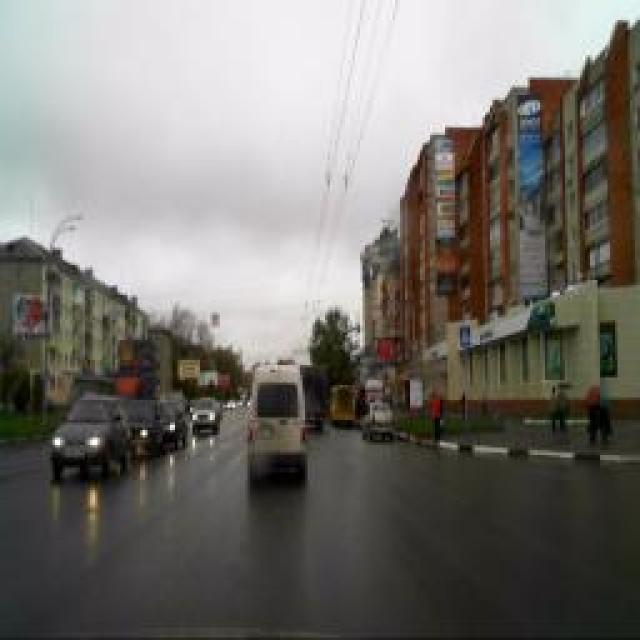sign: (459, 326, 471, 346)
